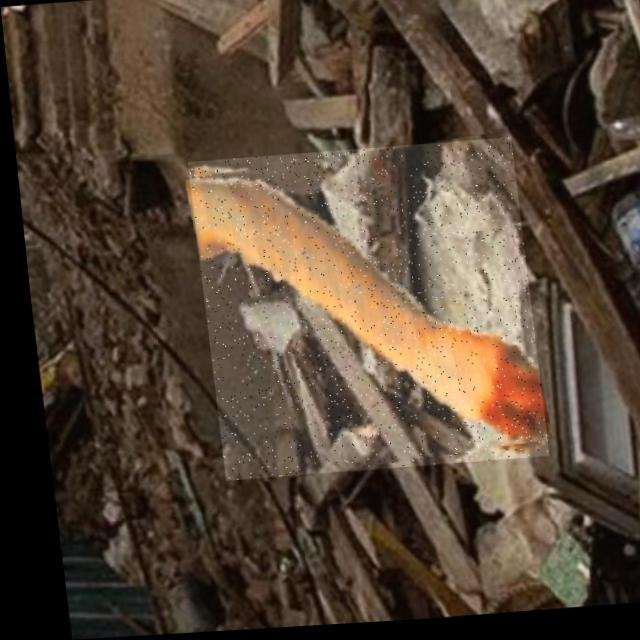Person in Rubble: (182, 142, 539, 482)
